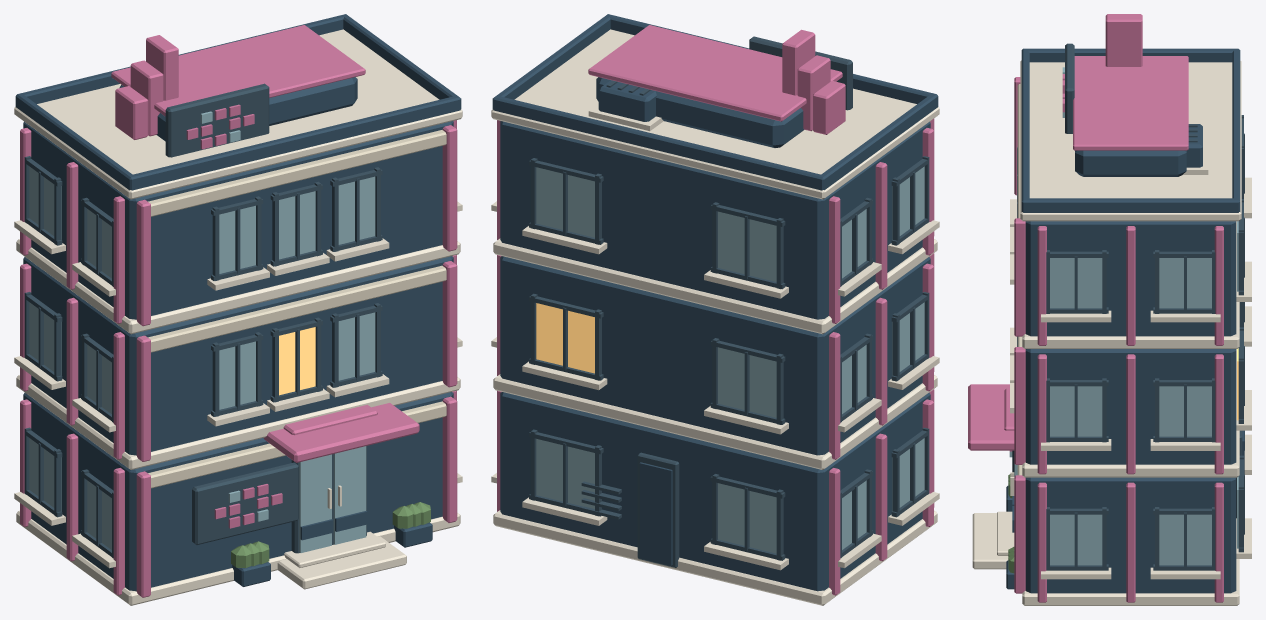
Rendered from gaming-l03.glb.
3 renders of one model, left to right at view 1: azimuth 30°, elevation 25°; view 2: azimuth 150°, elevation 25°; view 3: azimuth 270°, elevation 25°, orthographic. The views are drawn at different scales.
Parts seen in each view (by area): view 1: gaming_L03; view 2: gaming_L03; view 3: gaming_L03.
Part boxes in pixels (box(x1,y1,x2,y2)): gaming_L03: box(14, 14, 462, 605); gaming_L03: box(491, 14, 939, 605); gaming_L03: box(968, 14, 1251, 605).
Bounding box in the file's own units: 5.77 × 7.87 × 4.24.
